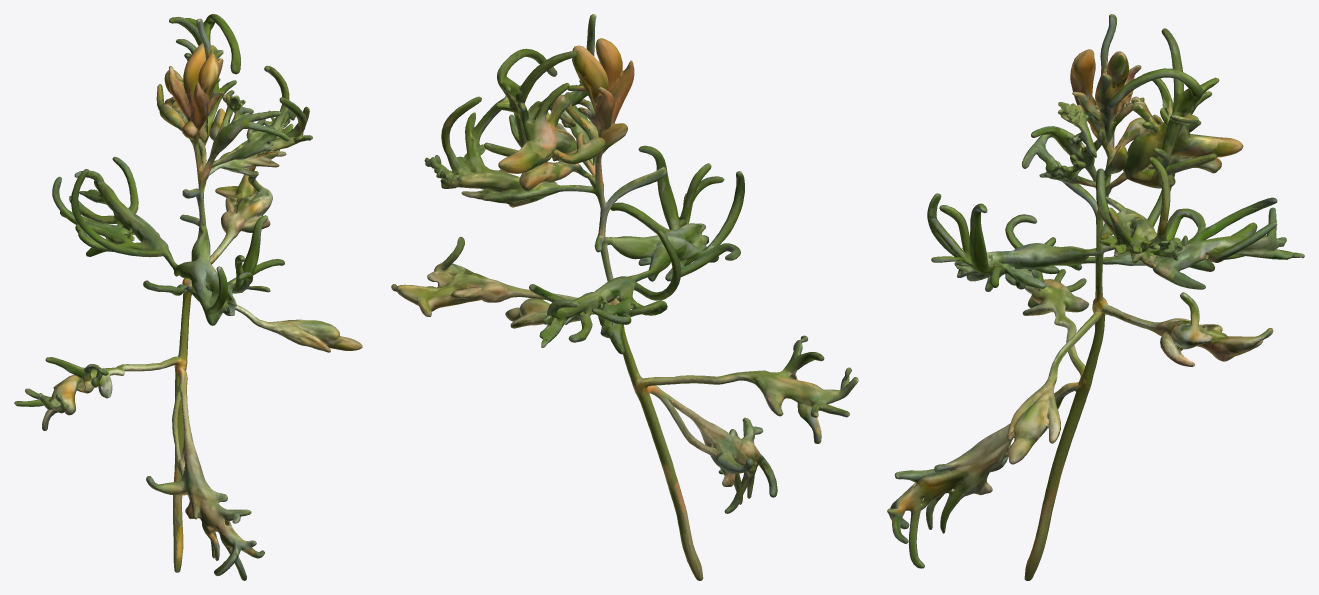
The model's file is bank-grass.glb.
3 renders of one model, left to right at view 1: azimuth 30°, elevation 25°; view 2: azimuth 150°, elevation 25°; view 3: azimuth 270°, elevation 25°, orthographic. The views are drawn at different scales.
Visible parts, largest first — view 1: geometry_0; view 2: geometry_0; view 3: geometry_0.
Boxes of the visible parts, x1,y1,x2,y2 form: geometry_0: [14, 14, 362, 580]; geometry_0: [391, 14, 858, 580]; geometry_0: [887, 14, 1304, 580].
Bounding box in the file's own units: 0.2372 × 0.3499 × 0.2212.
1 material, 1 textured.
